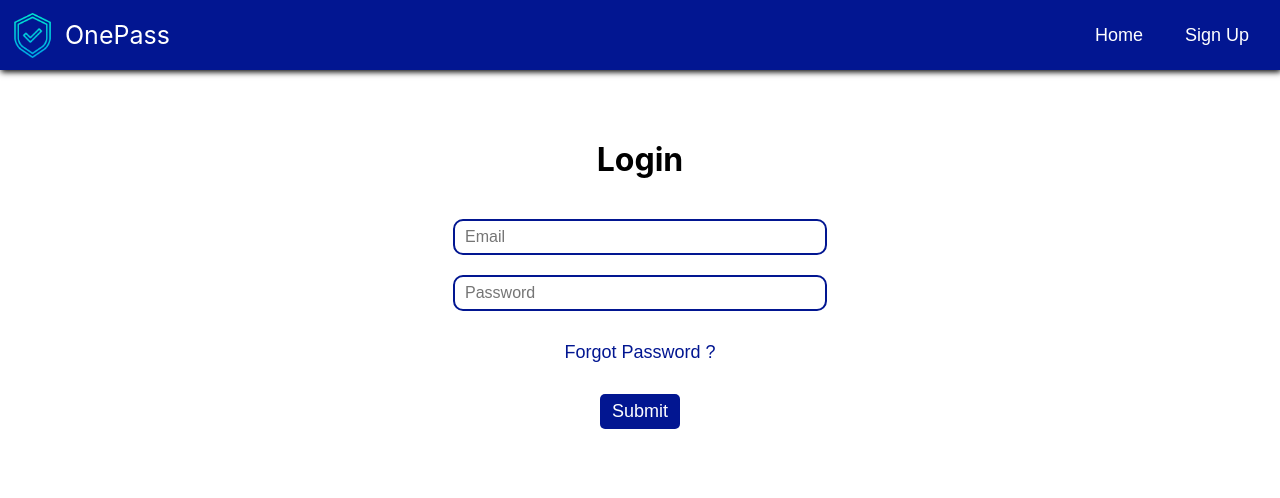
Scenario: <Login /> › Error message should show if given password is incorrect
Type "test@test.com" into the field with placeholder "Email".
click(640, 237); type("test@test.com")  # box [453,219,827,255]
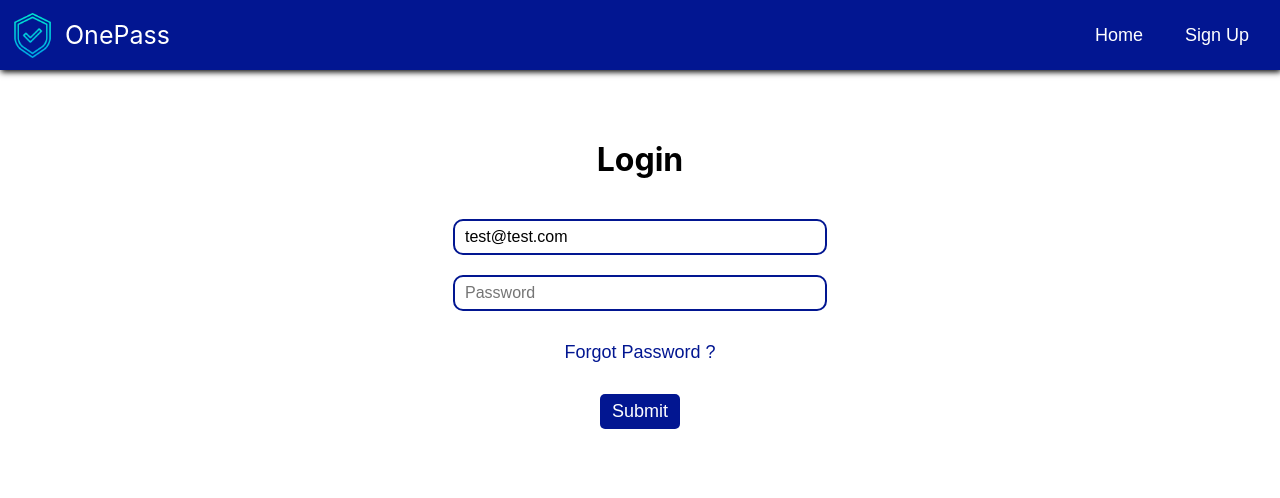
Type "testPassword" into the password field with placeholder "Password".
click(640, 293); type("testPassword")  # box [453,275,827,311]
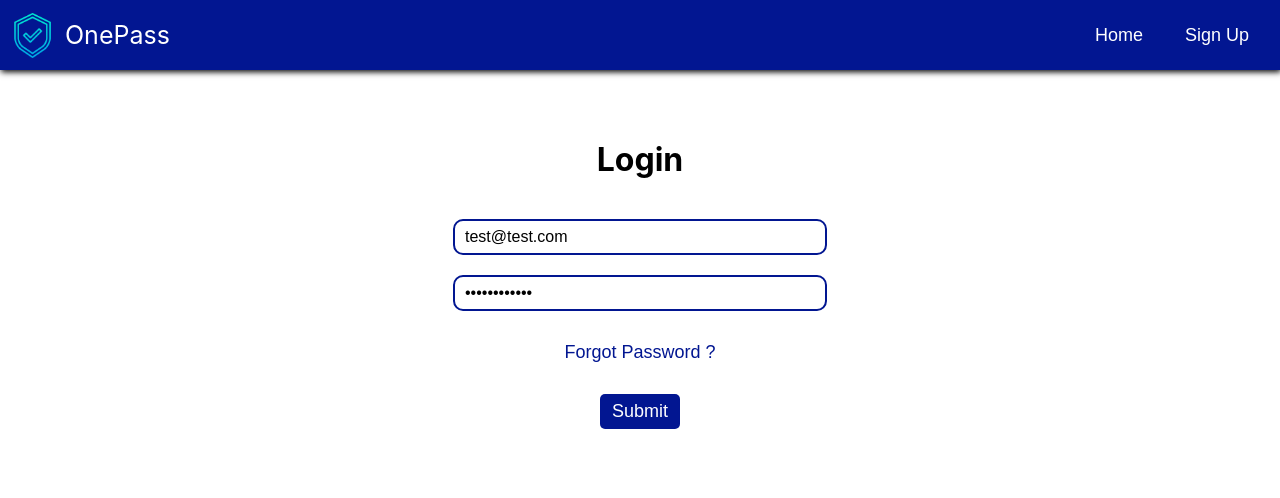
Click the button "Submit".
click(640, 412)  # box [600,394,680,429]
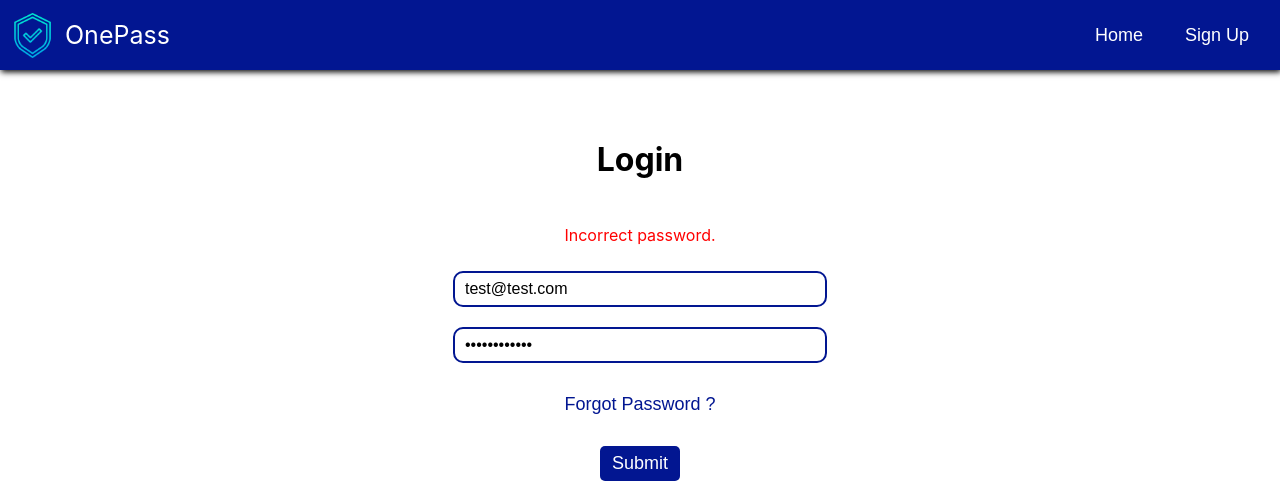
Expected: the text "Incorrect password." is shown, [564,225,716,245]
